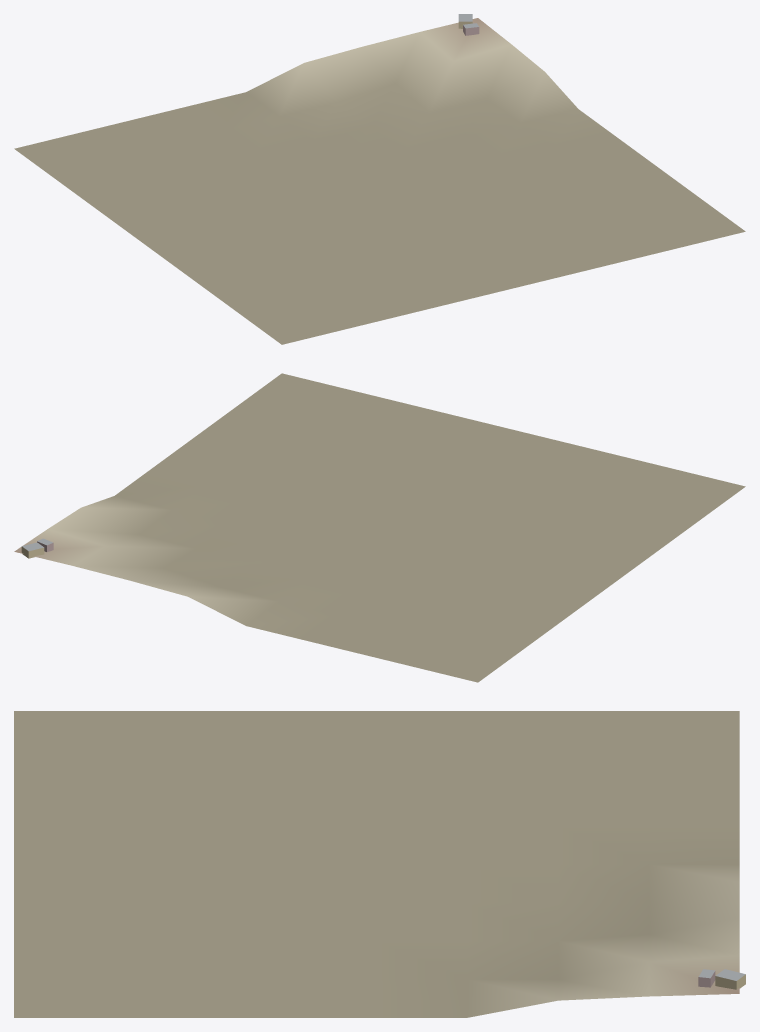
The picture shows the model from 3 angles, top to bottom: view 1: azimuth 30°, elevation 25°; view 2: azimuth 150°, elevation 25°; view 3: azimuth 270°, elevation 25°; orthographic projection. The views are drawn at different scales.
Parts seen in each view (by area): view 1: Lo; view 2: Lo; view 3: Lo.
Part boxes in pixels (x1=…): Lo: x1=14, y1=14, x2=745, y2=344; Lo: x1=14, y1=373, x2=745, y2=682; Lo: x1=14, y1=711, x2=745, y2=1017.
Bounding box in the file's own units: 256 × 12.61 × 258.
